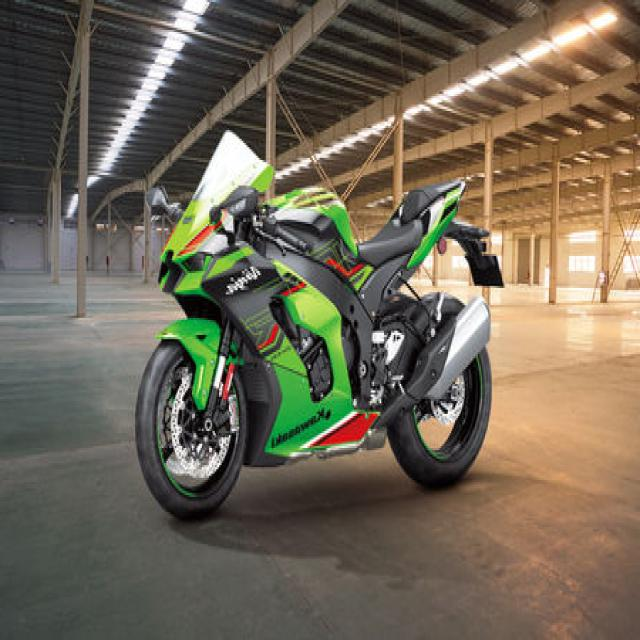motorcycle: (136, 131, 502, 518)
